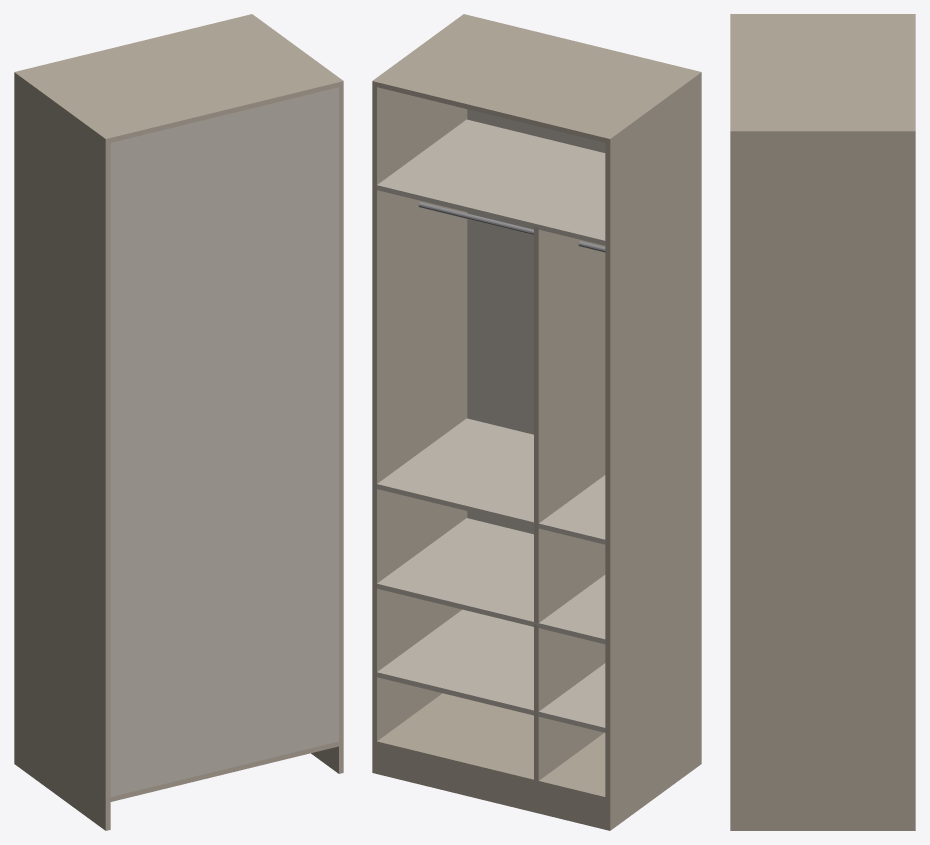
3 renders of one model, left to right at view 1: azimuth 30°, elevation 25°; view 2: azimuth 150°, elevation 25°; view 3: azimuth 270°, elevation 25°, orthographic.
Visible parts, largest first — view 1: 004_ARKALIK, 000_GOVDE_SOL, 002_GOVDE_UST, 001_GOVDE_SAG, 003_GOVDE_ALT; view 2: 000_GOVDE_SOL, 001_GOVDE_SAG, 006_IC_DIKME, 002_GOVDE_UST, 010_RAF_4, 004_ARKALIK, 008_RAF_2, 009_RAF_3, 007_RAF_1, 003_GOVDE_ALT, 005_BAZA, 011_ASKILIK; view 3: 001_GOVDE_SAG, 002_GOVDE_UST, 000_GOVDE_SOL.
Boxes of the visible parts, x1=… form: 004_ARKALIK: x1=110, y1=87, x2=338, y2=796; 000_GOVDE_SOL: x1=14, y1=71, x2=110, y2=830; 002_GOVDE_UST: x1=19, y1=15, x2=338, y2=142; 001_GOVDE_SAG: x1=247, y1=14, x2=343, y2=773; 003_GOVDE_ALT: x1=110, y1=741, x2=338, y2=801; 000_GOVDE_SOL: x1=605, y1=71, x2=701, y2=830; 001_GOVDE_SAG: x1=372, y1=14, x2=468, y2=773; 006_IC_DIKME: x1=534, y1=226, x2=605, y2=780; 002_GOVDE_UST: x1=377, y1=15, x2=696, y2=142; 010_RAF_4: x1=377, y1=119, x2=605, y2=245; 004_ARKALIK: x1=467, y1=109, x2=605, y2=534; 008_RAF_2: x1=377, y1=518, x2=605, y2=644; 009_RAF_3: x1=377, y1=418, x2=605, y2=544; 007_RAF_1: x1=377, y1=609, x2=605, y2=732; 003_GOVDE_ALT: x1=377, y1=693, x2=605, y2=801; 005_BAZA: x1=377, y1=746, x2=605, y2=829; 011_ASKILIK: x1=418, y1=202, x2=605, y2=252; 001_GOVDE_SAG: x1=730, y1=129, x2=915, y2=830; 002_GOVDE_UST: x1=730, y1=16, x2=915, y2=128; 000_GOVDE_SOL: x1=730, y1=14, x2=915, y2=16.
Size of the model in its own units: 0.9 by 2.5 by 0.6.
